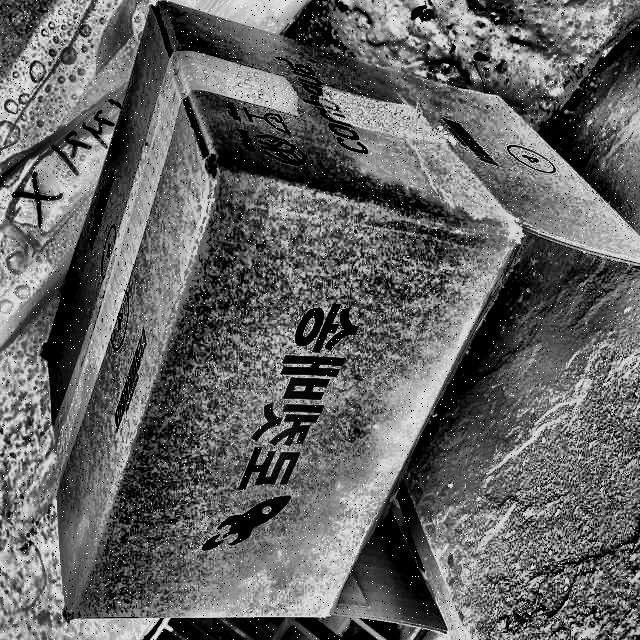box: (35, 1, 639, 640)
wet: (34, 2, 458, 628)
